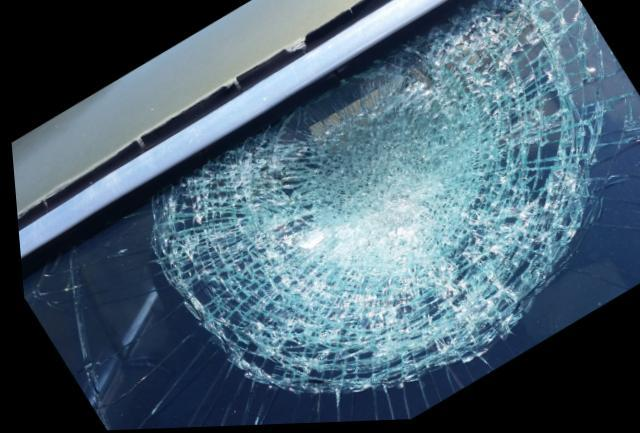glass shatter: (17, 0, 640, 431)
